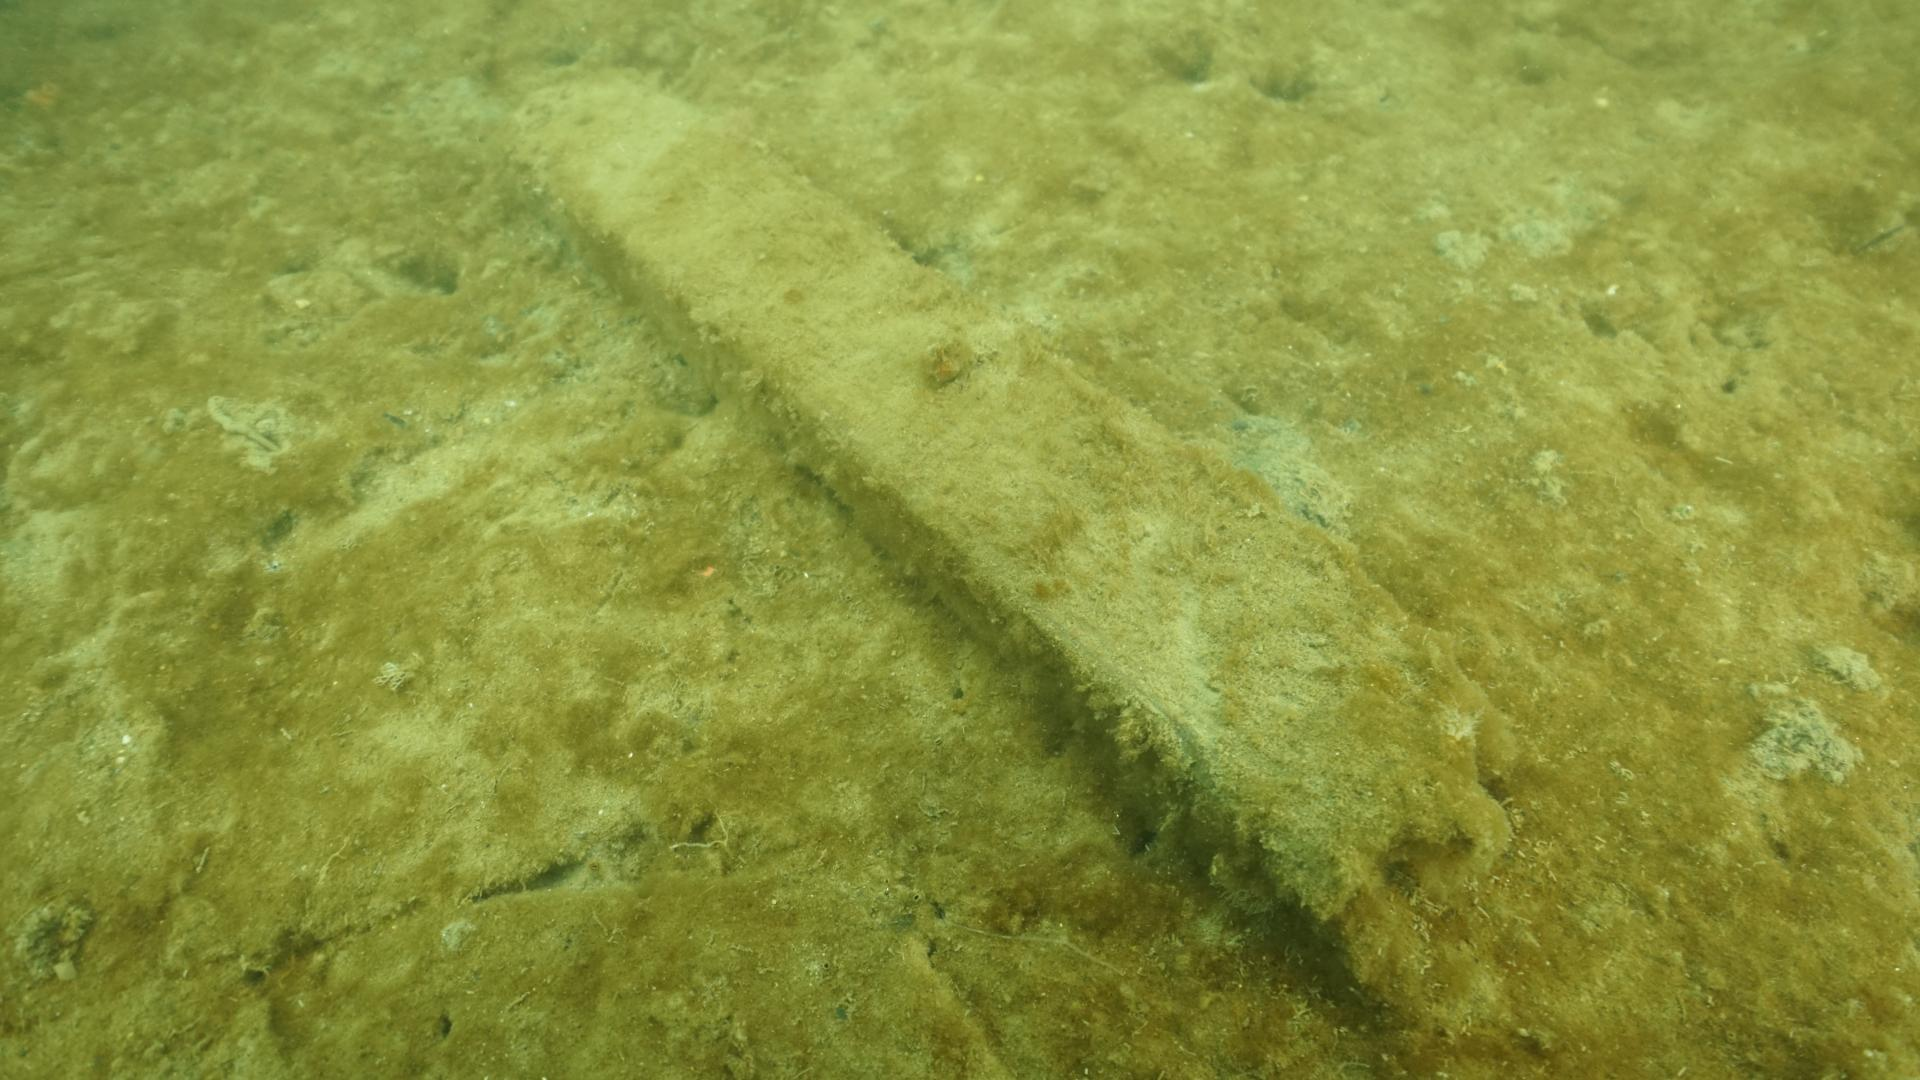wood: (505, 65, 1524, 1031)
